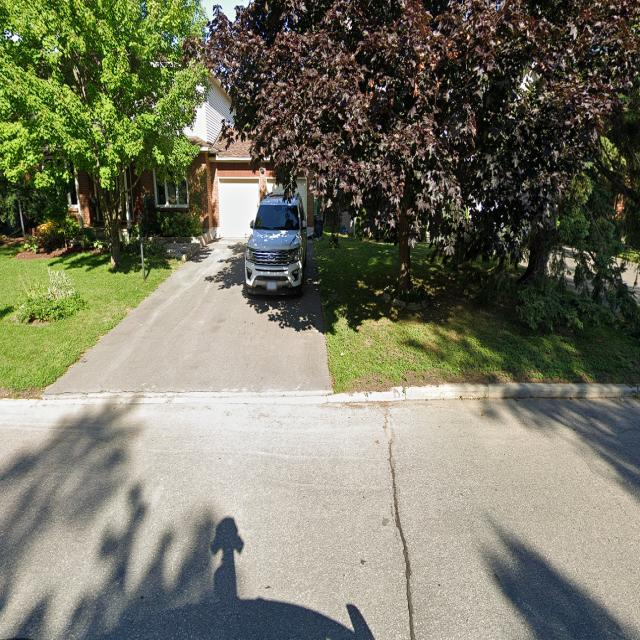Door: (332, 179, 372, 238)
curb: (0, 381, 637, 403)
obstacle: (242, 187, 309, 302)
walkways: (43, 231, 351, 389)
